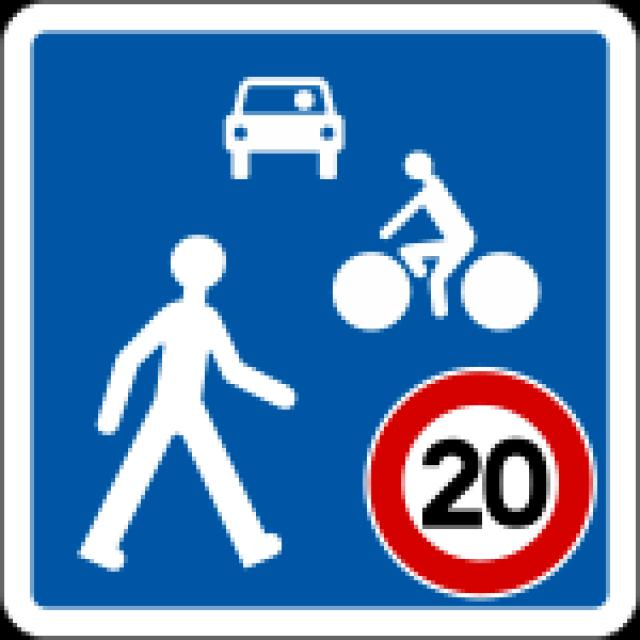indication: (0, 0, 640, 640)
speed_20: (364, 366, 598, 595)
